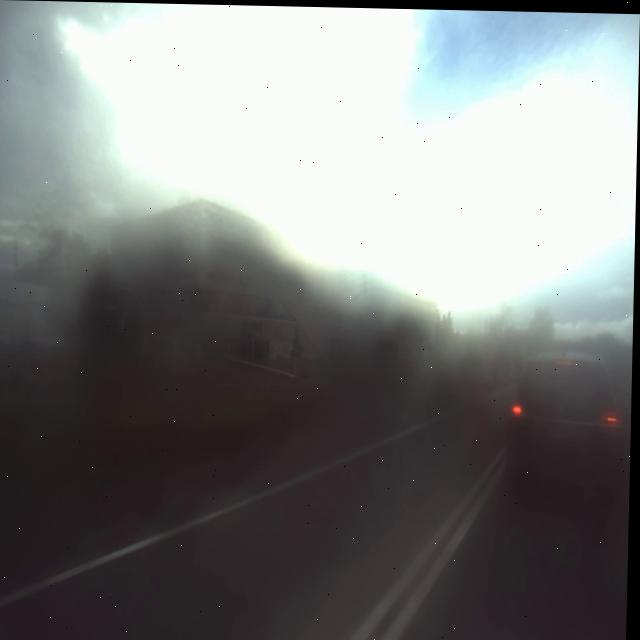car: (509, 329, 629, 492)
